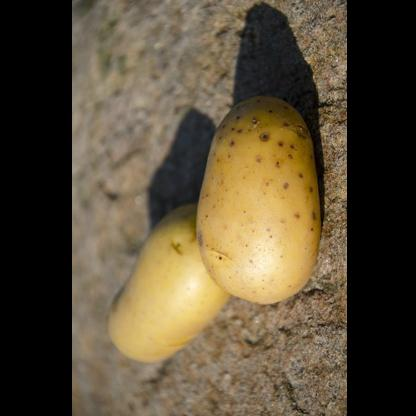potato: (194, 96, 318, 304), (104, 202, 228, 362)
